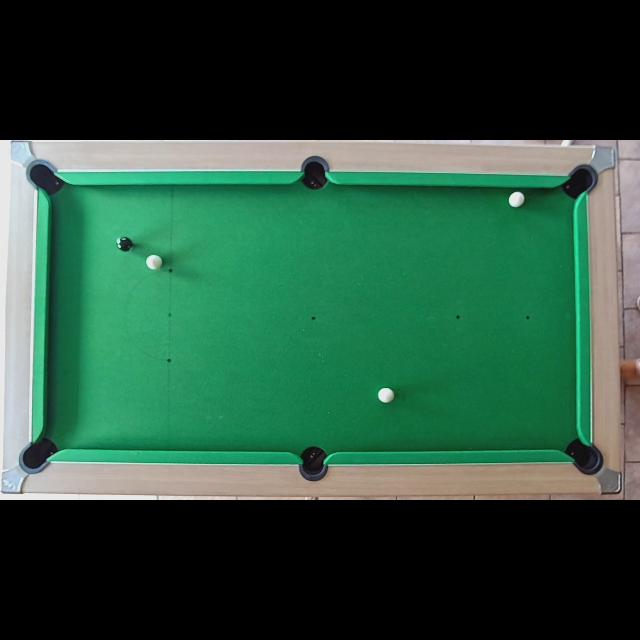Ball: (146, 254, 162, 270), (378, 388, 394, 404), (117, 236, 133, 252), (510, 192, 524, 206)
